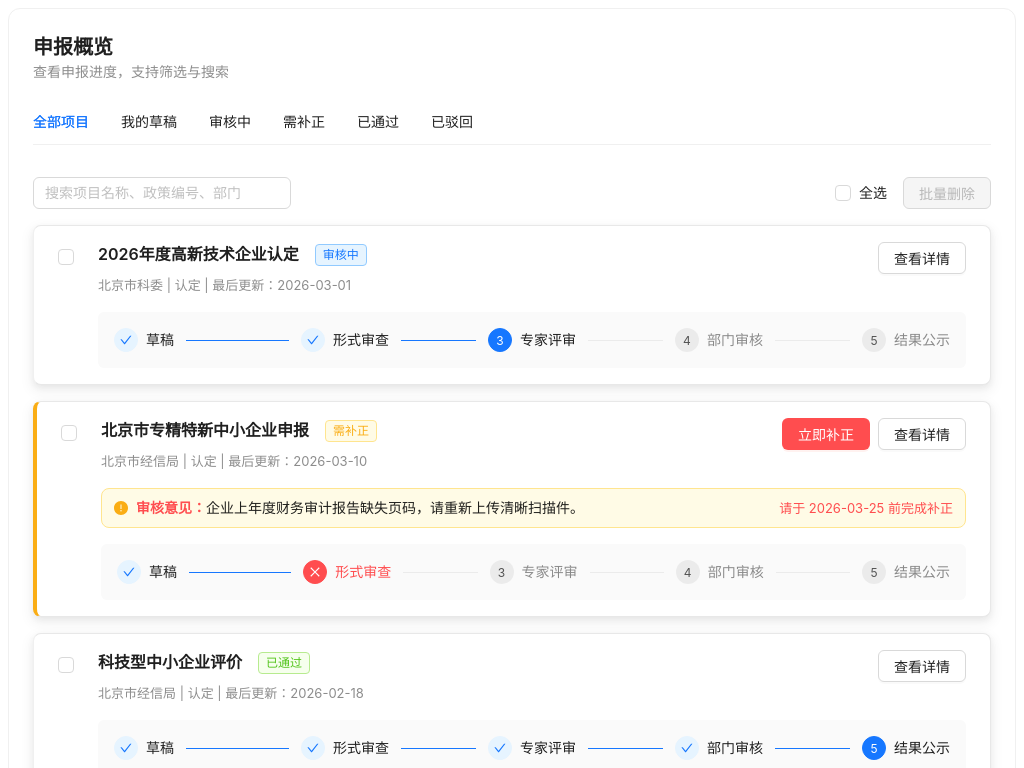
it: OptimizedMyApplications Component › searches by keyword
Step 1. Type "高新技术" into the field with placeholder "搜索项目名称、政策编号、部门" → {"x": 154, "y": 193}, box [45,182,263,204]
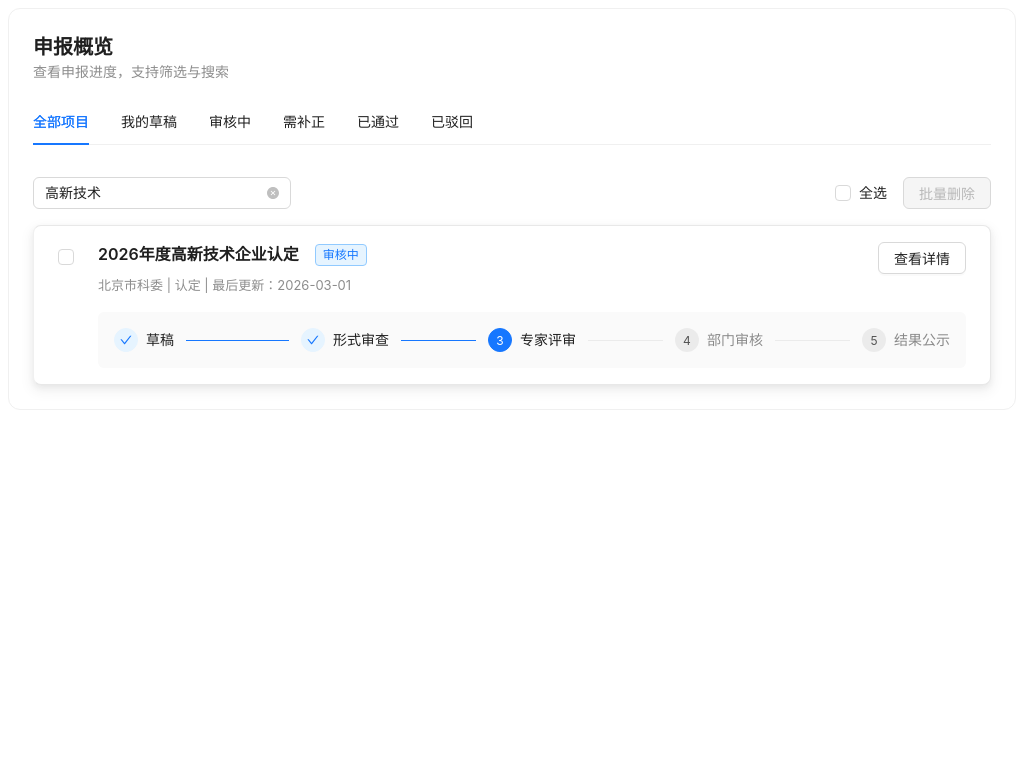
Check: the heading "2026年度高新技术企业认定" is shown, box [98,242,299,266]
Check: the heading "科技型中小企业评价" is gone
